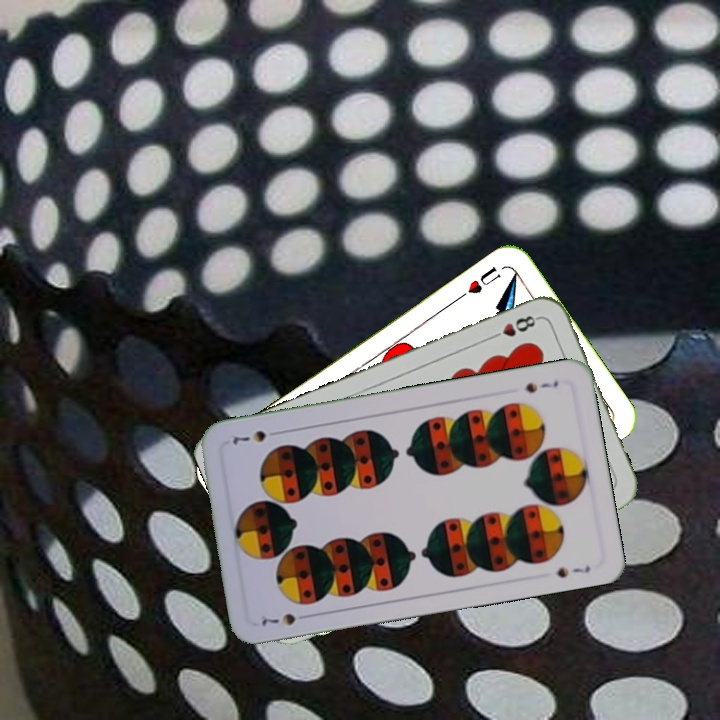H8: (486, 311, 542, 342)
HU: (455, 262, 504, 302)
S7: (257, 609, 313, 629), (521, 376, 561, 396)
